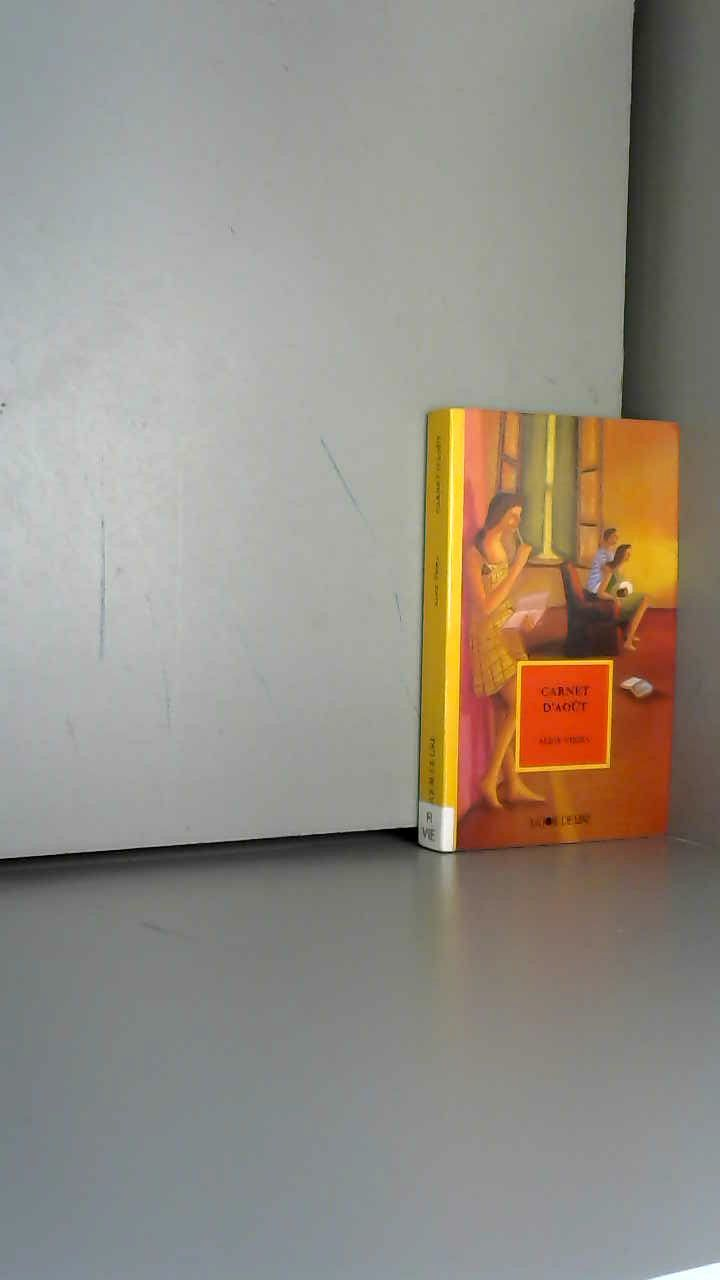book: (410, 380, 715, 871)
